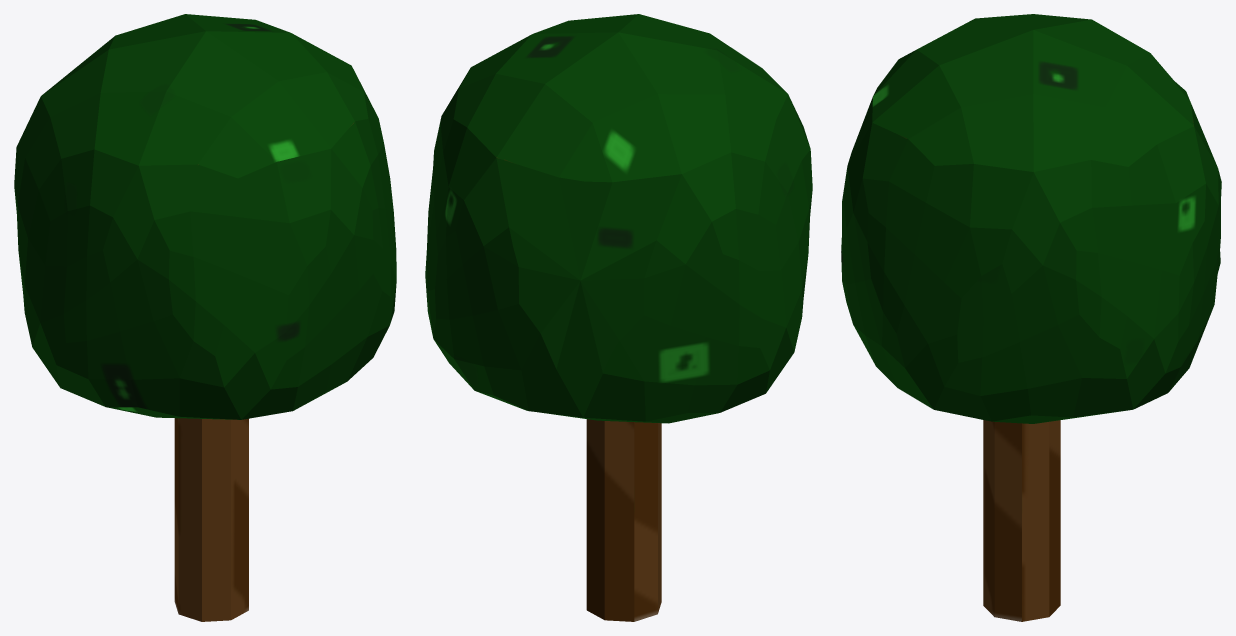
The model's file is deciduous_tree.glb.
3 renders of one model, left to right at view 1: azimuth 30°, elevation 25°; view 2: azimuth 150°, elevation 25°; view 3: azimuth 270°, elevation 25°, orthographic.
Parts seen in each view (by area): view 1: deciduous_tree; view 2: deciduous_tree; view 3: deciduous_tree.
Part boxes in pixels (x1,y1,x2,y2): deciduous_tree: (14, 14, 396, 621); deciduous_tree: (425, 14, 812, 621); deciduous_tree: (841, 14, 1221, 621).
Size of what is drawn, in the model's own units: 4.98 by 8.21 by 4.92.
1 material, 1 textured.
